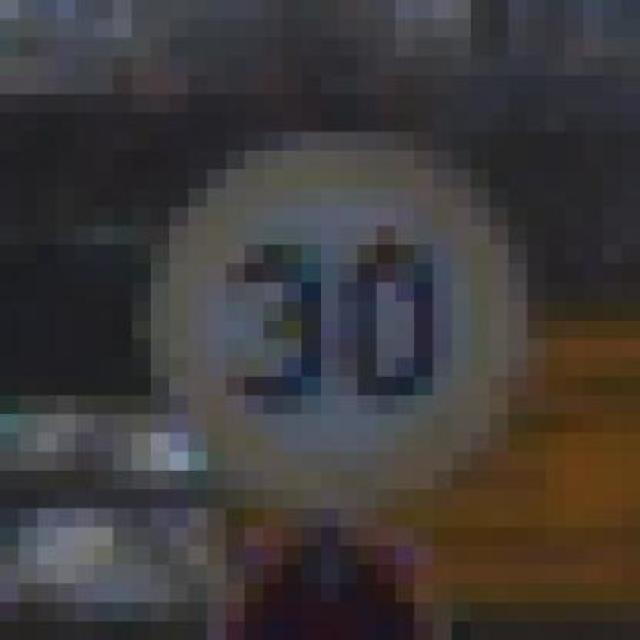Speed Limit 30 KMPh: (112, 94, 546, 528)
